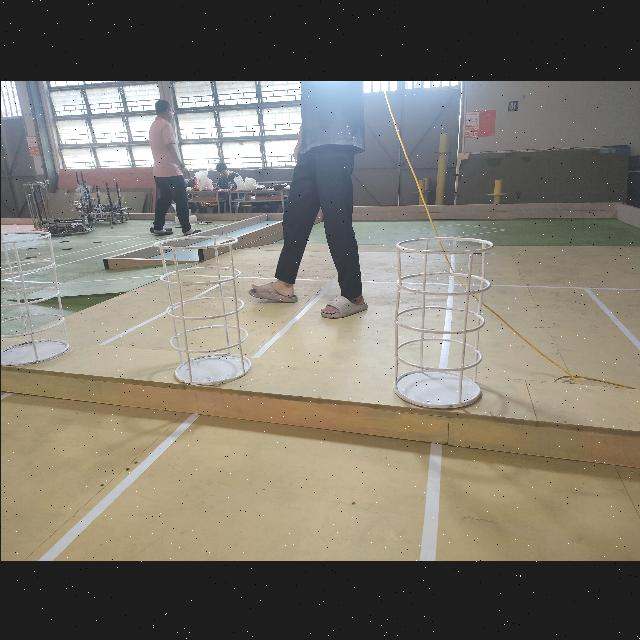S: (385, 233, 495, 415), (161, 228, 247, 384), (0, 222, 68, 364)
